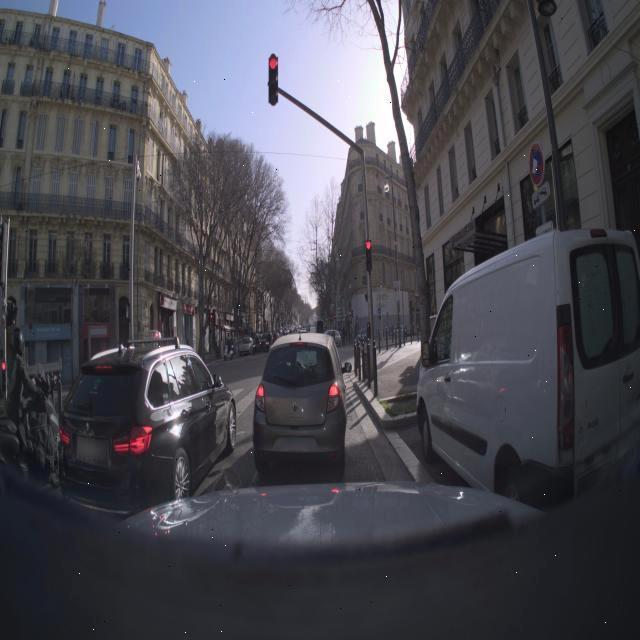Red: (253, 50, 296, 113), (359, 236, 382, 281)
